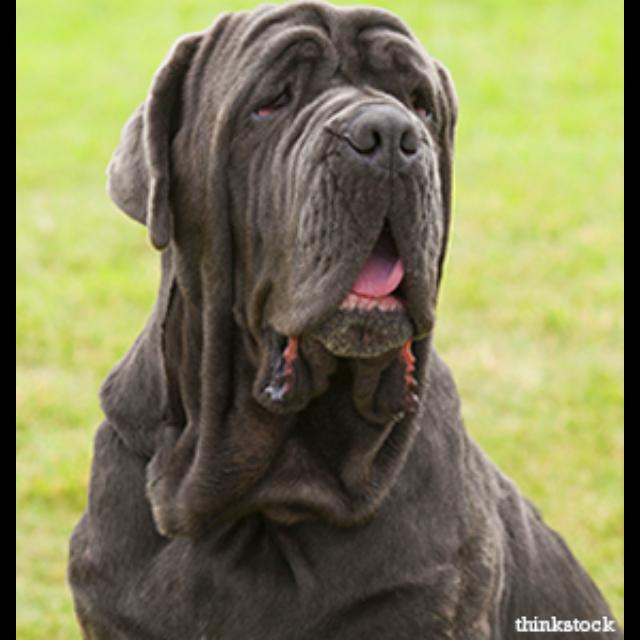mastino_napoletano: (66, 2, 622, 639)
